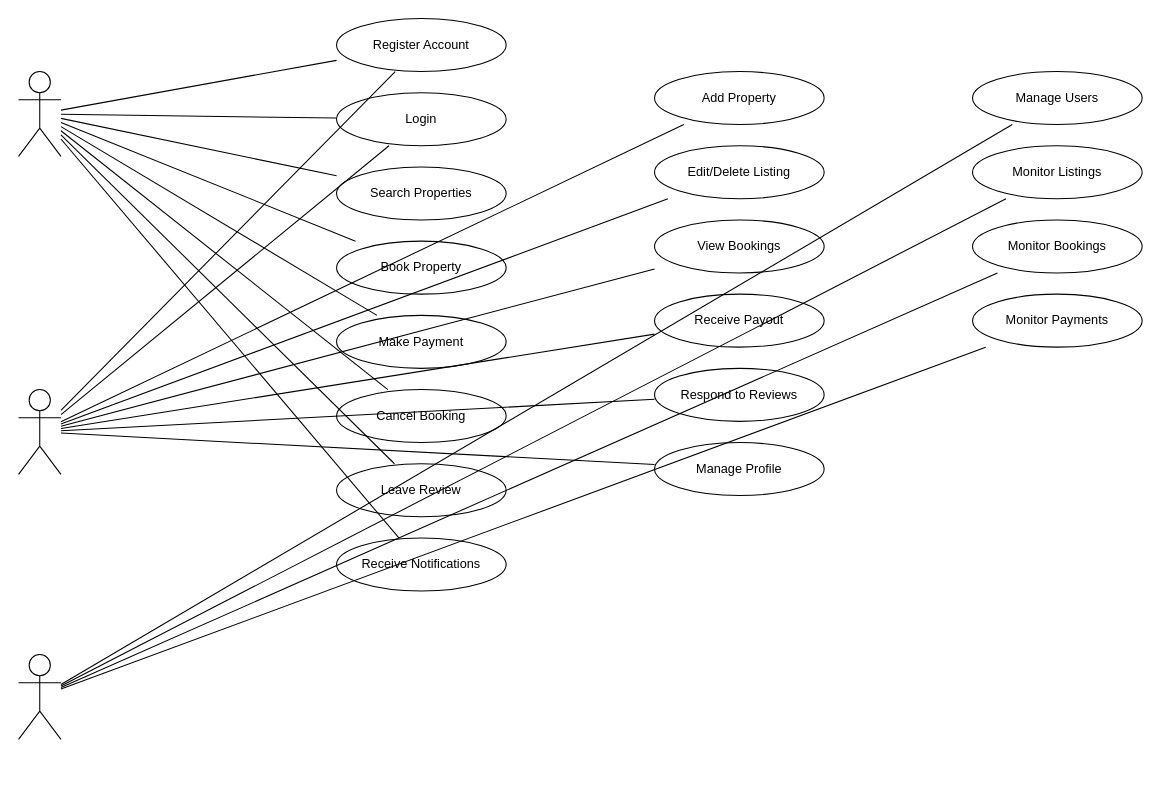
Image size: 1161x808. Some labels were removed from this diagram. Each missing label, with the centre of its shape:
"Admin" goes at point (39, 696).
"Guest" goes at point (39, 113).
"Host" goes at point (39, 431).
